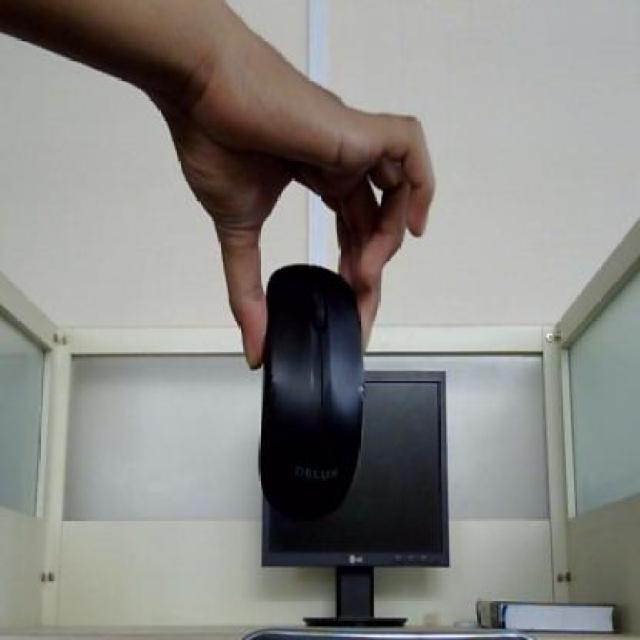Plastic: (259, 262, 365, 515)
